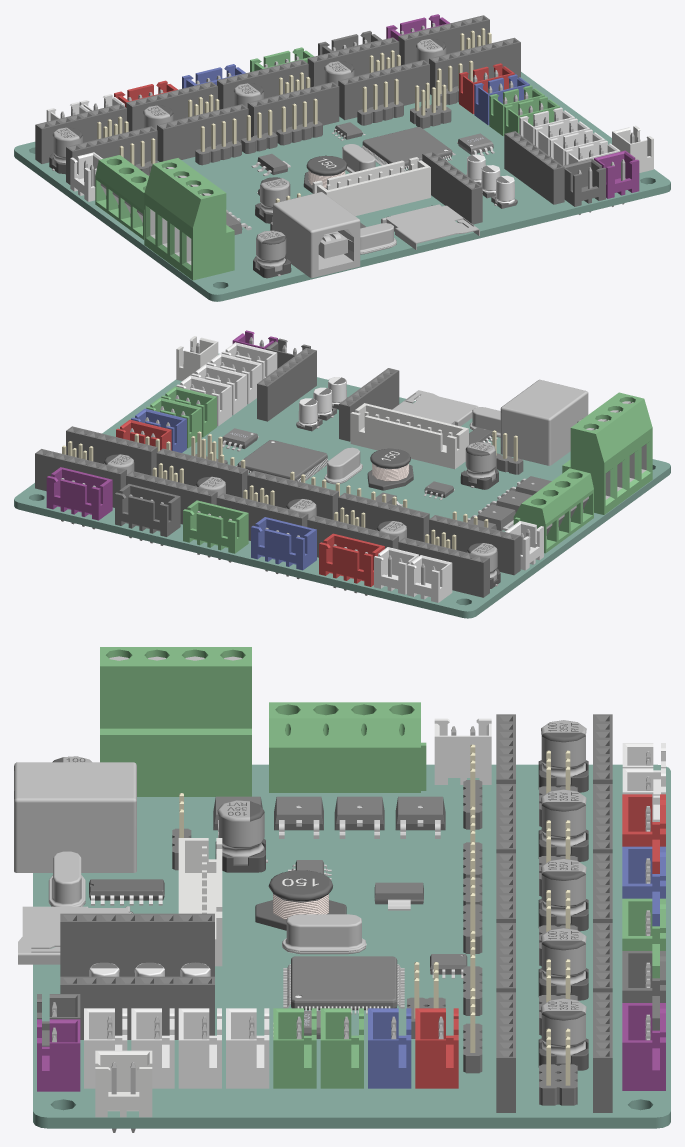
3 renders of one model, top to bottom at view 1: azimuth 30°, elevation 25°; view 2: azimuth 150°, elevation 25°; view 3: azimuth 270°, elevation 25°, orthographic. The views are drawn at different scales.
Visible parts, largest first — view 1: Оболочка (×57); view 2: Оболочка (×50); view 3: Оболочка (×74).
Boxes of the visible parts, x1,y1,x2,y2 form: Оболочка (×57): (14, 14, 670, 301); Оболочка (×50): (14, 336, 670, 618); Оболочка (×74): (14, 647, 670, 1128).
Size of the model in its own units: 110 by 22.06 by 86.51.
